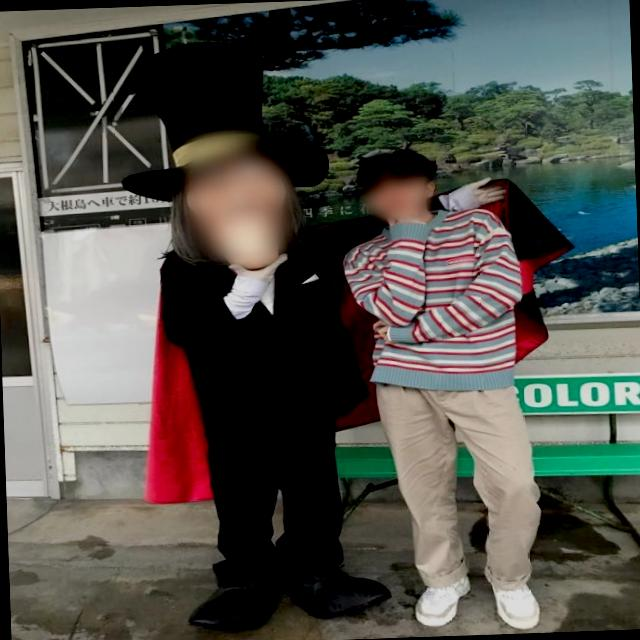blazer: (161, 246, 372, 442)
cottonpants: (372, 376, 542, 593)
slacks: (202, 416, 344, 584)
sweater: (334, 207, 528, 398)
